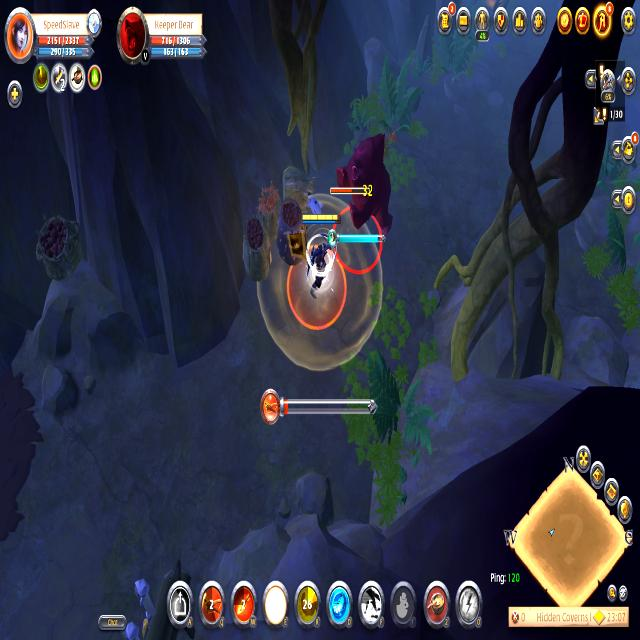ore: (329, 136, 394, 280)
red: (297, 212, 342, 300)
silver: (287, 233, 346, 329)
